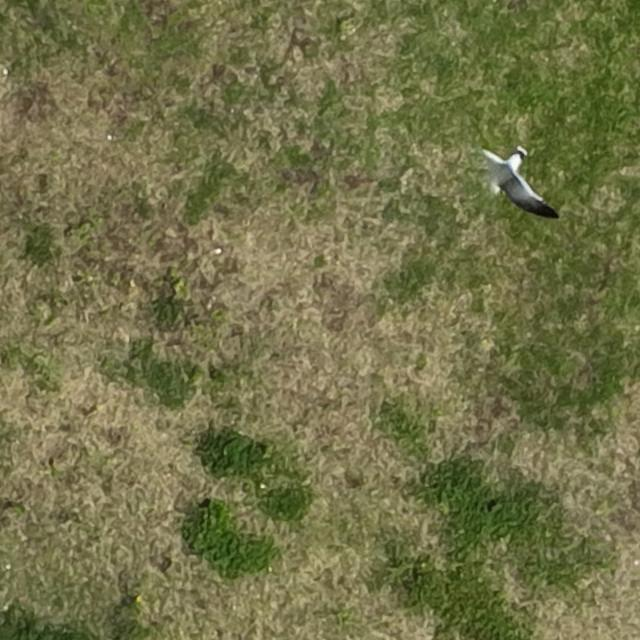F: (487, 143, 545, 203)
